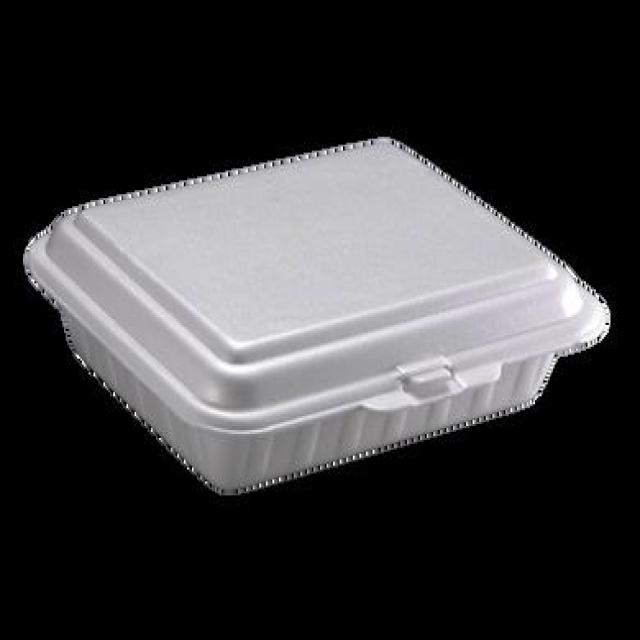styrofoam: (21, 133, 612, 497)
